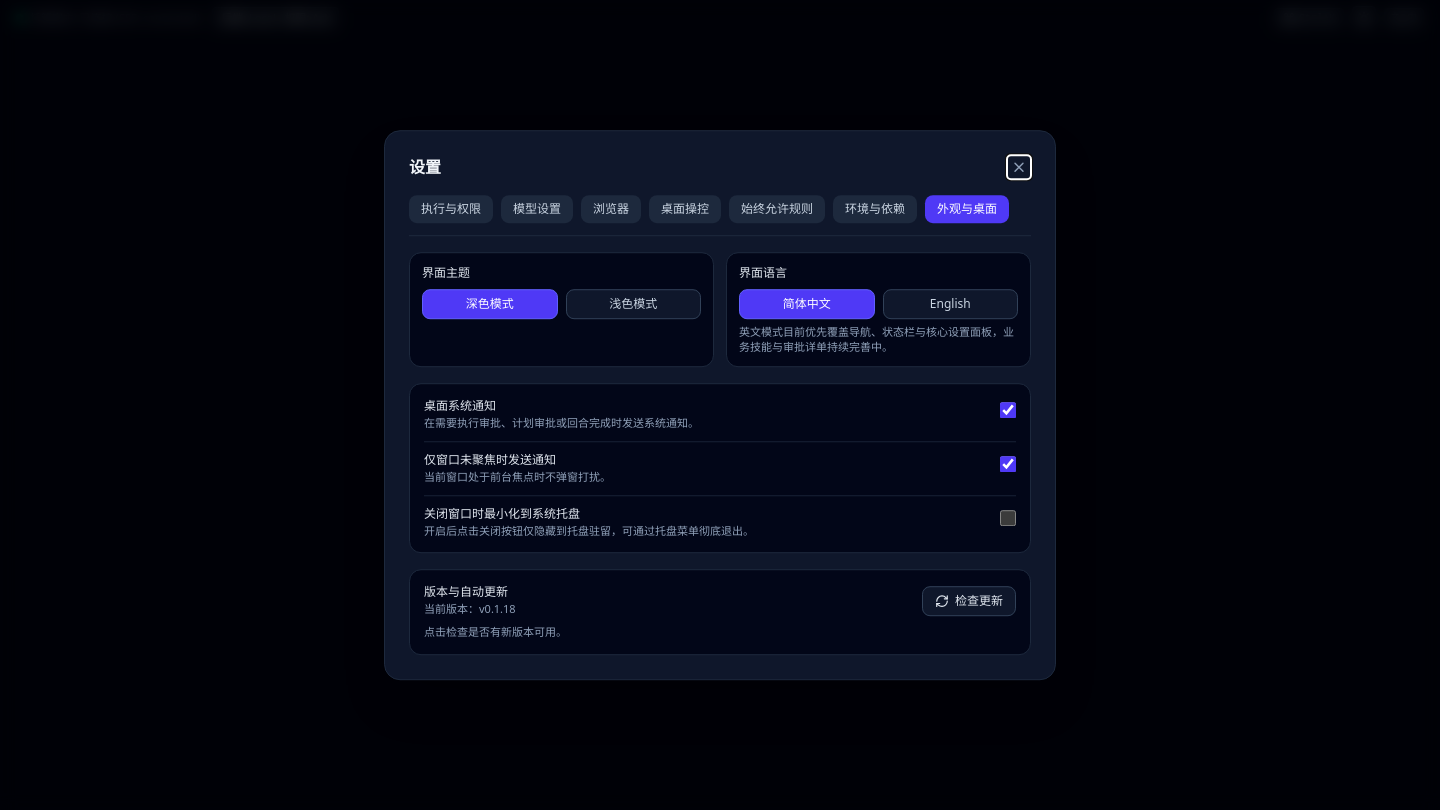
Test: P5 Desktop Enhancements (Notifications, Theme, i18n, Command Palette, Updater) › renders Preferences tab in SettingsModal and handles StatusBar theme/language toggles
Later steps or results of the test are not shown.
What coordinates should you click on to do the following:
click the button with test id "theme-select-light"
I would click on:
 (633, 304)
Its box is [566,289,701,319].
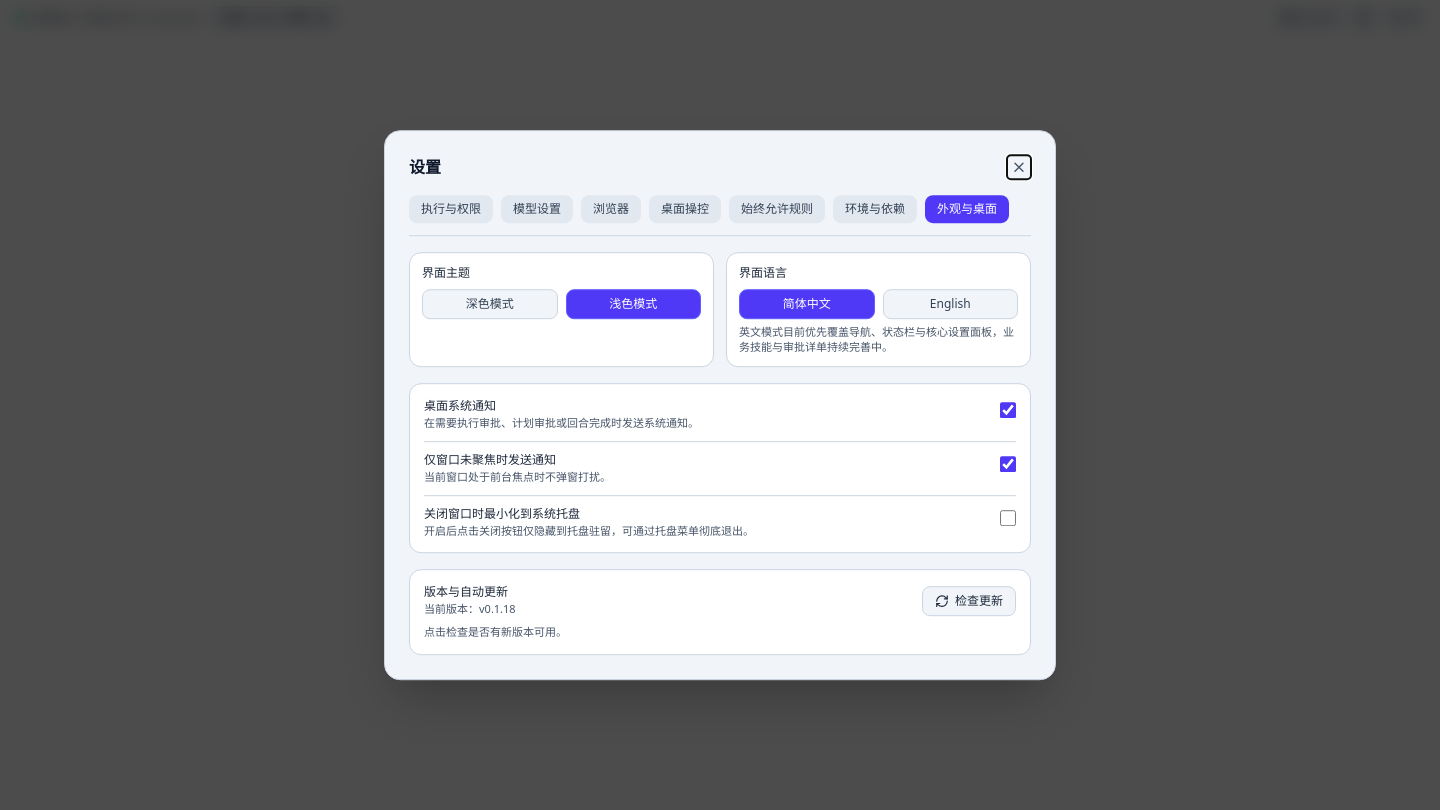
What coordinates should you click on to do the following:
click the button with test id "lang-select-en-US"
I would click on:
 (950, 304)
Its box is [882,289,1018,319].
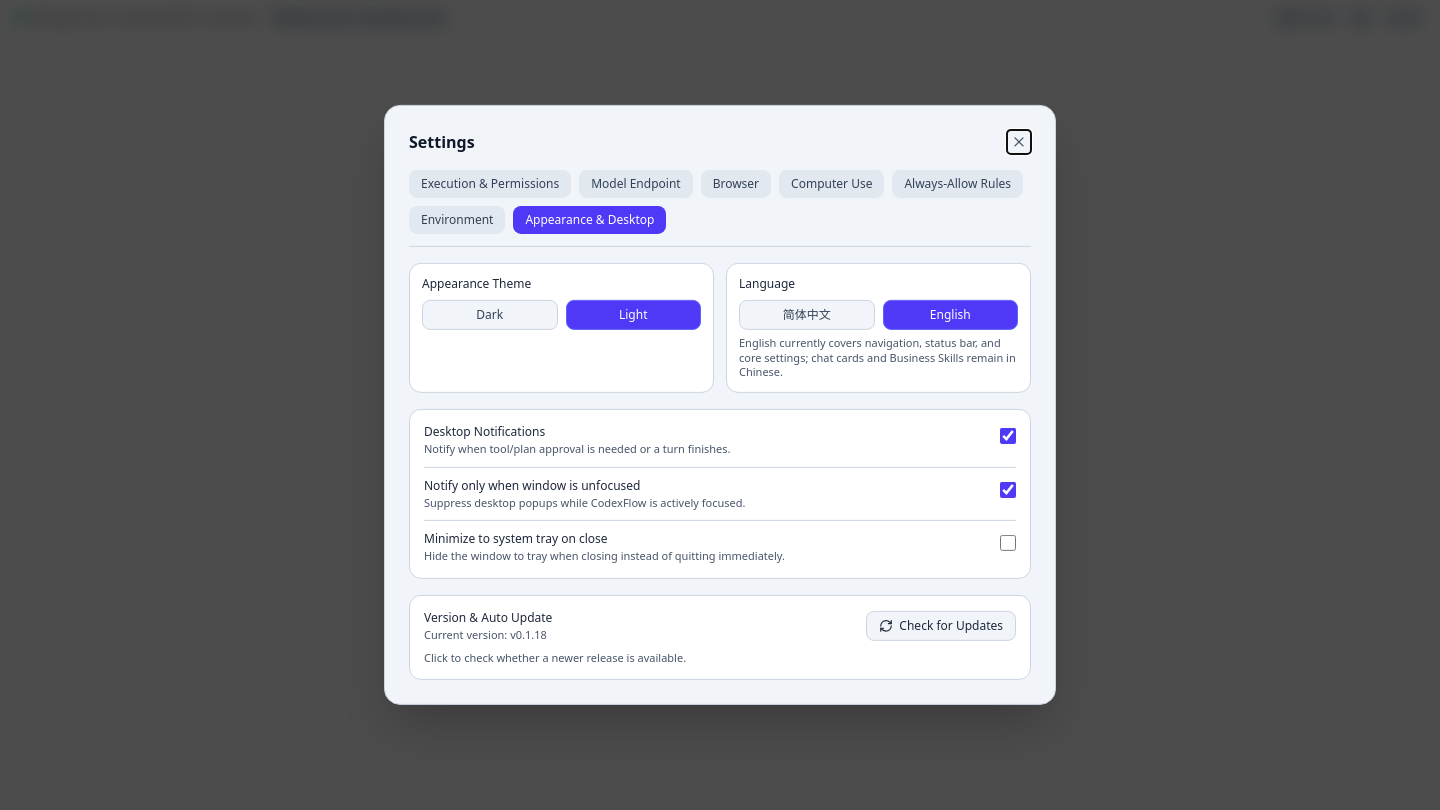
Result: the button "Appearance & Desktop" is shown at [513,206,666,234]
